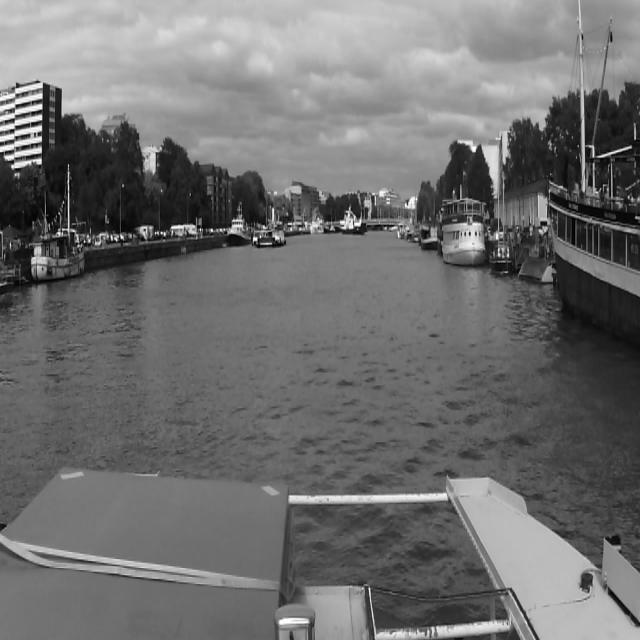ship: (540, 176, 640, 354), (29, 156, 79, 284), (438, 196, 486, 266), (486, 165, 516, 276), (249, 220, 287, 248), (230, 217, 250, 247), (339, 210, 362, 233)
